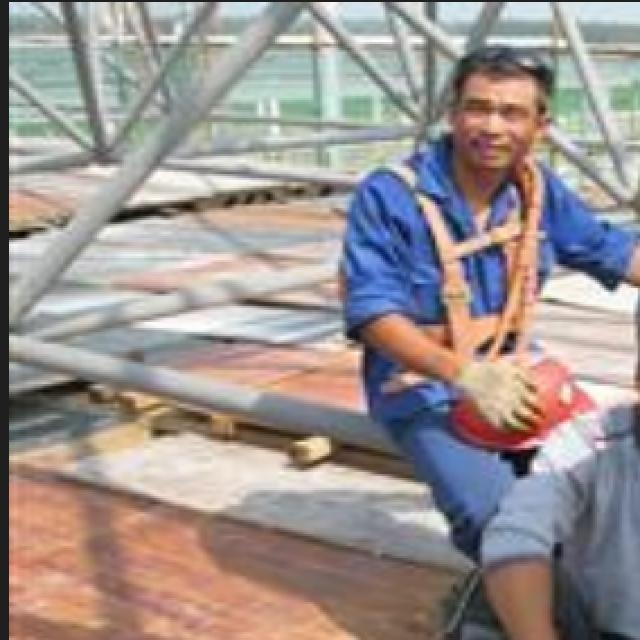Arnes_seguridad: (360, 146, 559, 366)
